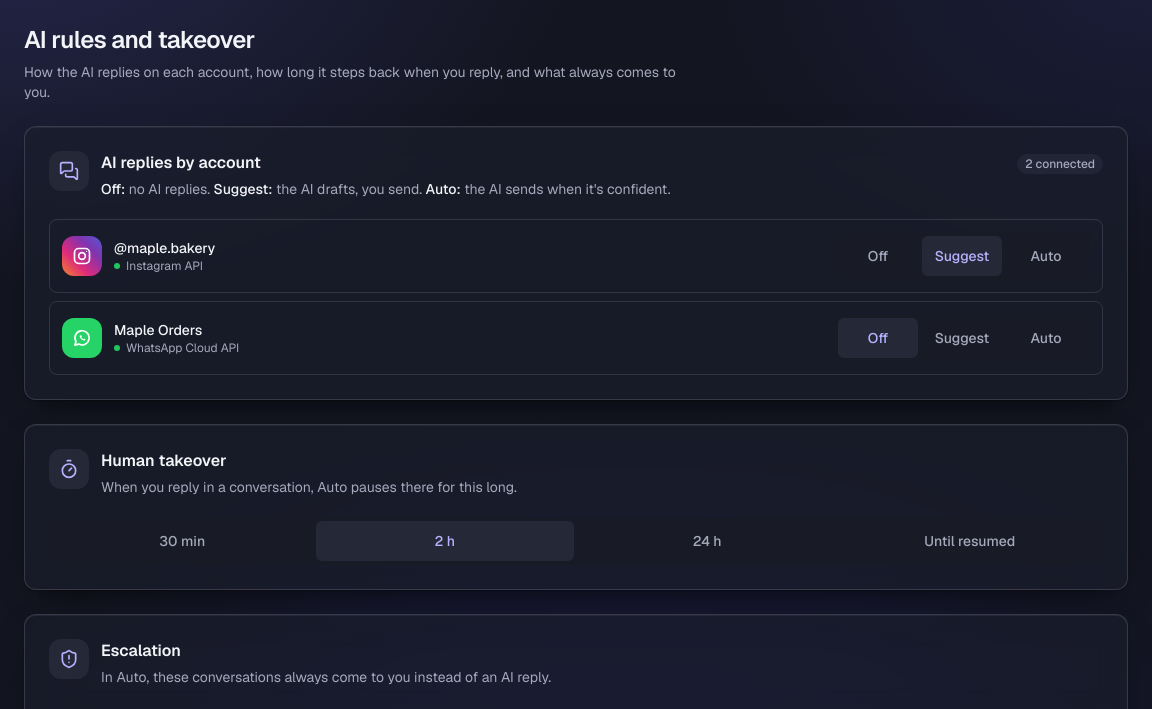
Scenario: Settings → AI (UX-SCR-07, T5.5) › a 402 from the API opens the upgrade dialog
Click the radio button labelled "Auto" in the row of "@maple.bakery": (1046, 256) [1006, 236, 1086, 276]
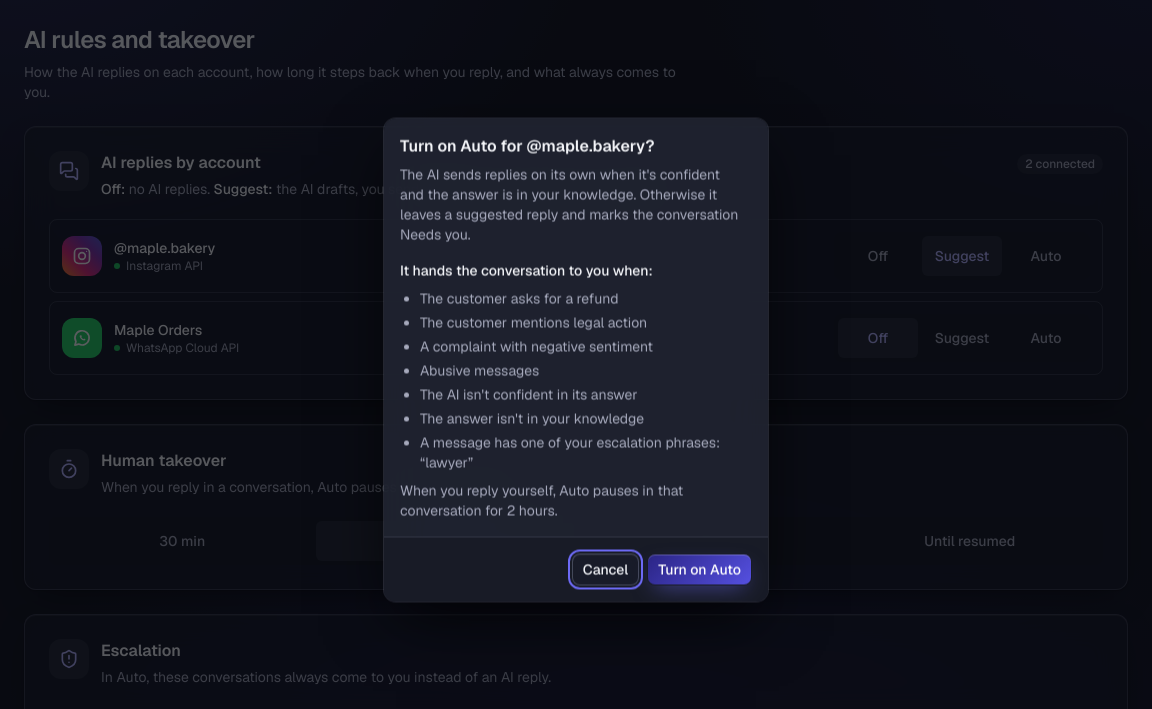
Click the button "Turn on Auto": (700, 570) [647, 554, 752, 586]
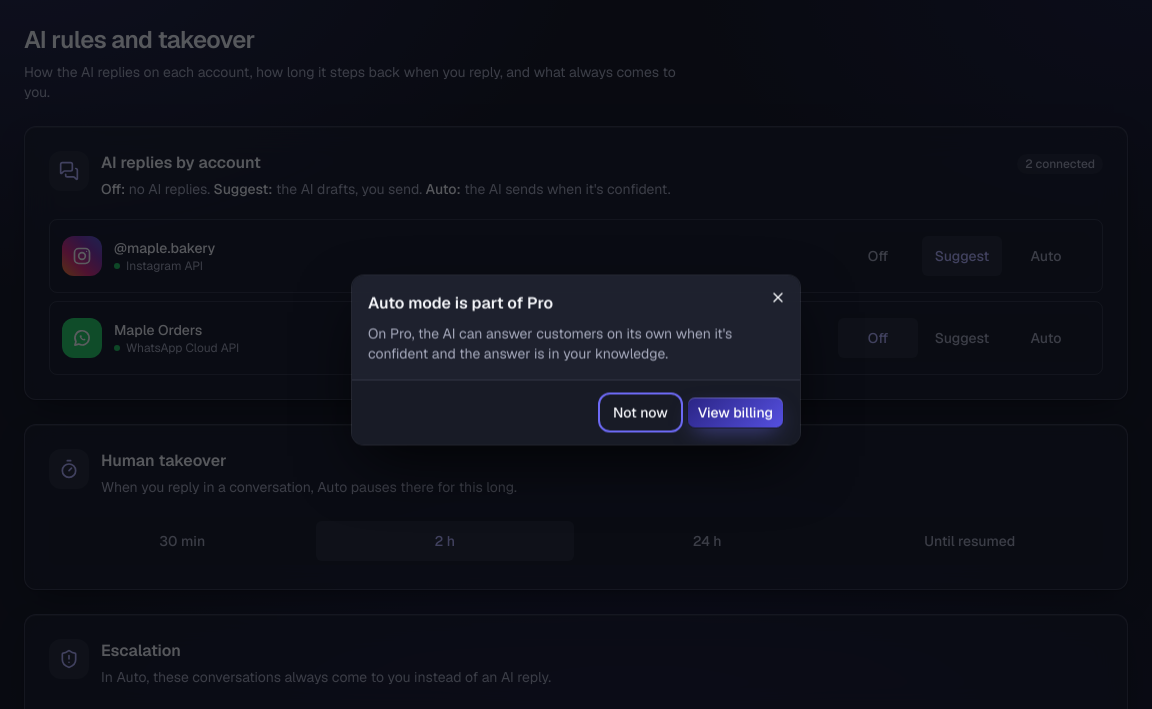
Now the dialog "Auto mode is part of Pro" is shown, box [352, 276, 800, 444]
